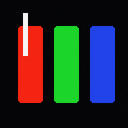4 line_v: (23, 13, 27, 55)
